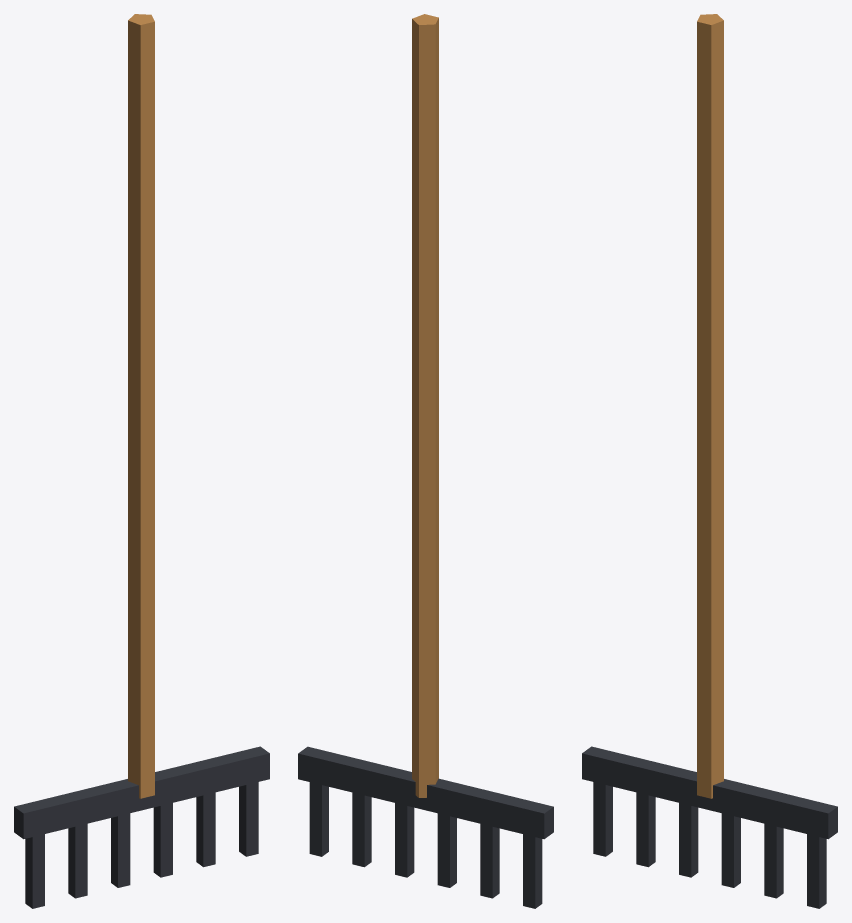
File: garden2_garden_rake.glb
The picture shows the model from 3 angles, left to right: view 1: azimuth 30°, elevation 25°; view 2: azimuth 150°, elevation 25°; view 3: azimuth 330°, elevation 25°; orthographic projection.
Visible parts, largest first — view 1: garden_rake; view 2: garden_rake; view 3: garden_rake.
Part boxes in pixels (x1=…): garden_rake: x1=14, y1=14, x2=269, y2=908; garden_rake: x1=298, y1=14, x2=553, y2=908; garden_rake: x1=582, y1=14, x2=837, y2=908.
Bounding box in the file's own units: 0.3 × 1 × 0.0271.
